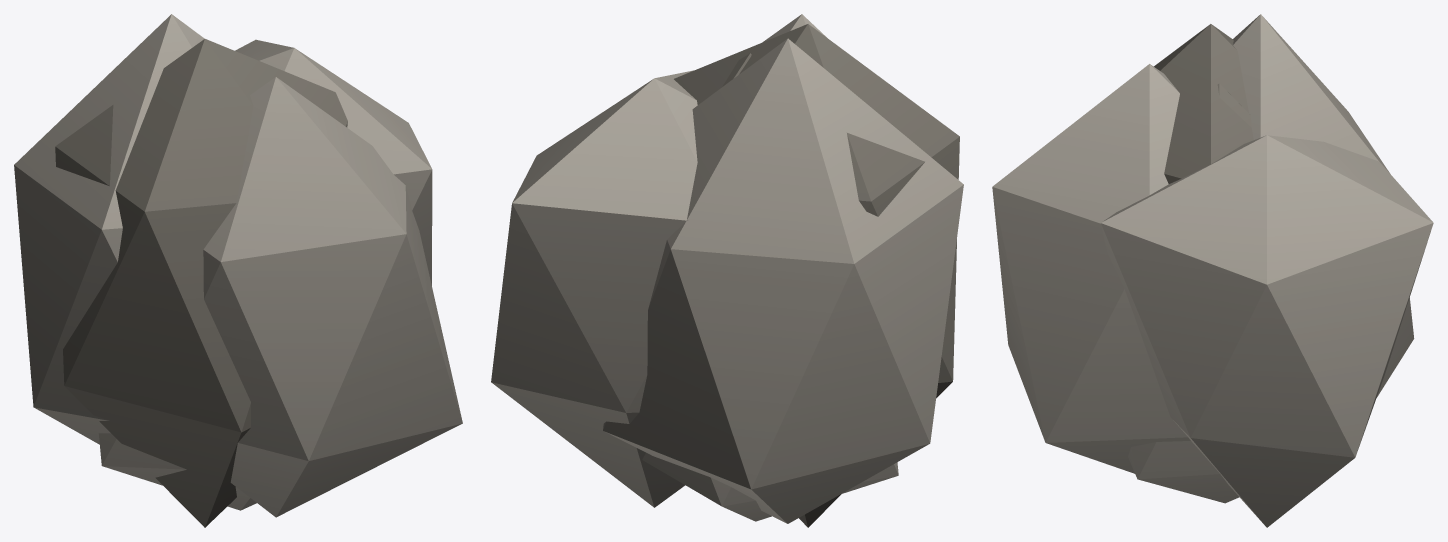
Rendered from mountain_2.glb.
The picture shows the model from 3 angles, left to right: view 1: azimuth 30°, elevation 25°; view 2: azimuth 150°, elevation 25°; view 3: azimuth 270°, elevation 25°; orthographic projection. The views are drawn at different scales.
Visible parts, largest first — view 1: mountain_2; view 2: mountain_2; view 3: mountain_2.
Part boxes in pixels (x1=…): mountain_2: x1=14, y1=14, x2=462, y2=527; mountain_2: x1=491, y1=14, x2=963, y2=527; mountain_2: x1=992, y1=14, x2=1433, y2=527.
Size of the model in its own units: 0.9709 by 1.22 by 1.04.
Materials: 1 (1 with a texture image).
